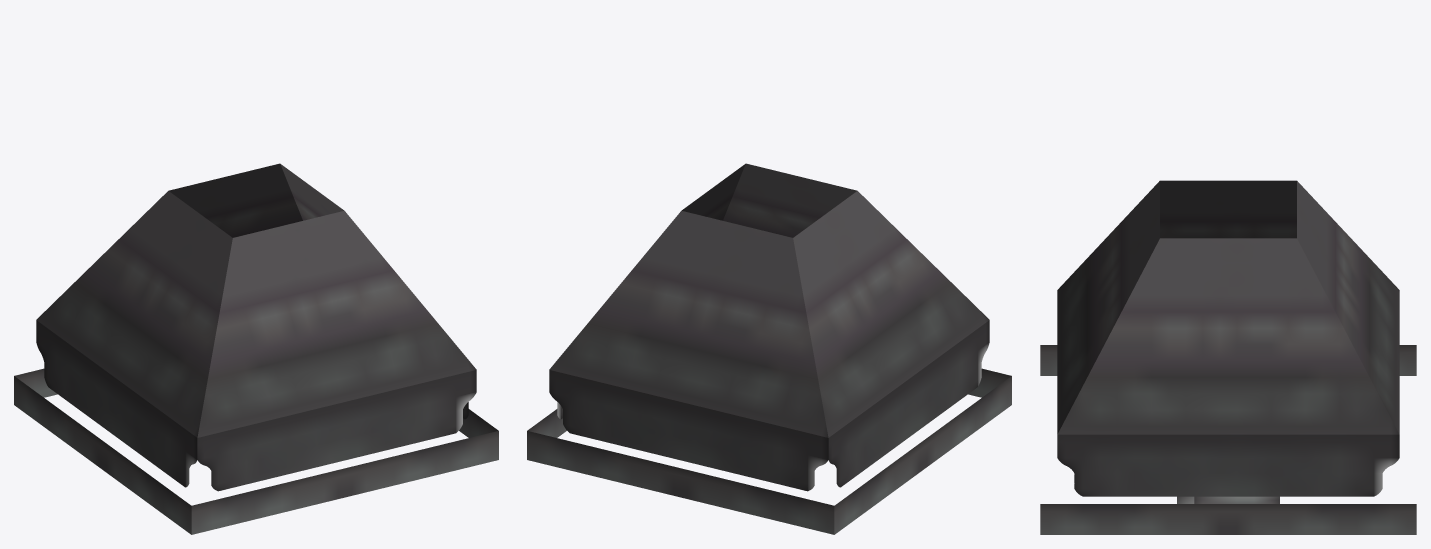
The model's file is rocket_top_sloped.obj.
The picture shows the model from 3 angles, left to right: view 1: azimuth 30°, elevation 25°; view 2: azimuth 150°, elevation 25°; view 3: azimuth 270°, elevation 25°; orthographic projection. The views are drawn at different scales.
Parts seen in each view (by area): view 1: RocketTop.003_Cube.008; view 2: RocketTop.003_Cube.008; view 3: RocketTop.003_Cube.008.
Part boxes in pixels (<box>): RocketTop.003_Cube.008: <box>14,163,498,534</box>; RocketTop.003_Cube.008: <box>527,163,1011,534</box>; RocketTop.003_Cube.008: <box>1040,180,1416,534</box>.
Bounding box in the file's own units: 1.38 × 1.75 × 1.38.
